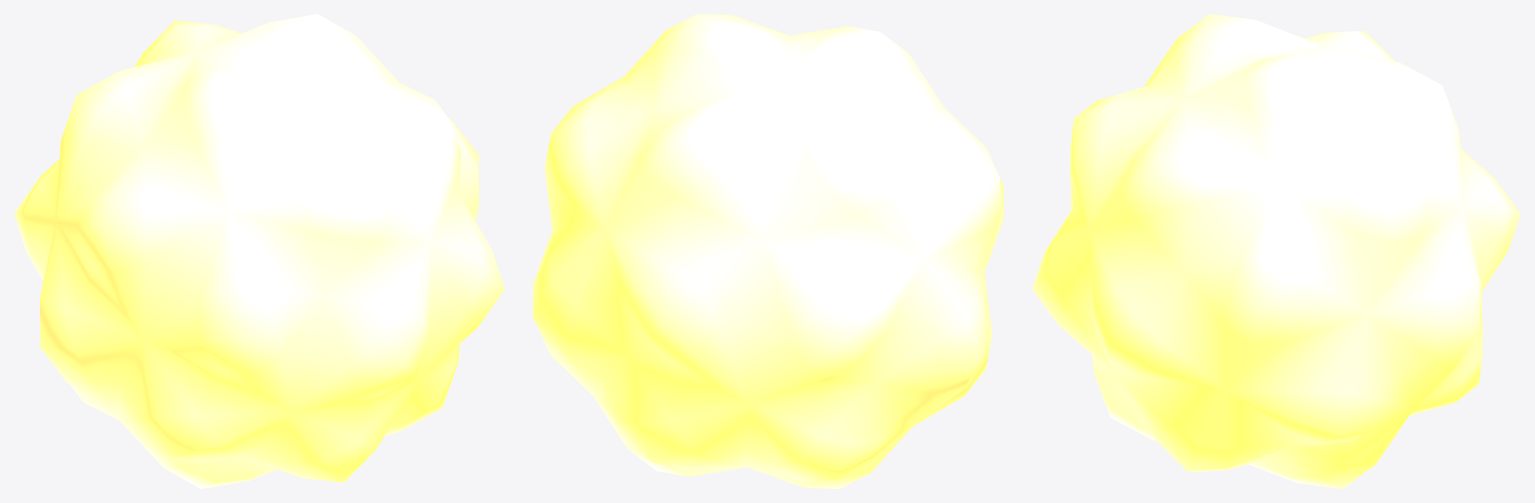
File: hit_impack_normal.fbx
3 renders of one model, left to right at view 1: azimuth 30°, elevation 25°; view 2: azimuth 150°, elevation 25°; view 3: azimuth 270°, elevation 25°, orthographic. The views are drawn at different scales.
Visible parts, largest first — view 1: Hit_impack_normal; view 2: Hit_impack_normal; view 3: Hit_impack_normal.
Boxes of the visible parts, x1,y1,x2,y2 form: Hit_impack_normal: (14,14,504,488); Hit_impack_normal: (533,14,1003,488); Hit_impack_normal: (1032,14,1520,488).
Size of the model in its own units: 170 by 167 by 172.
